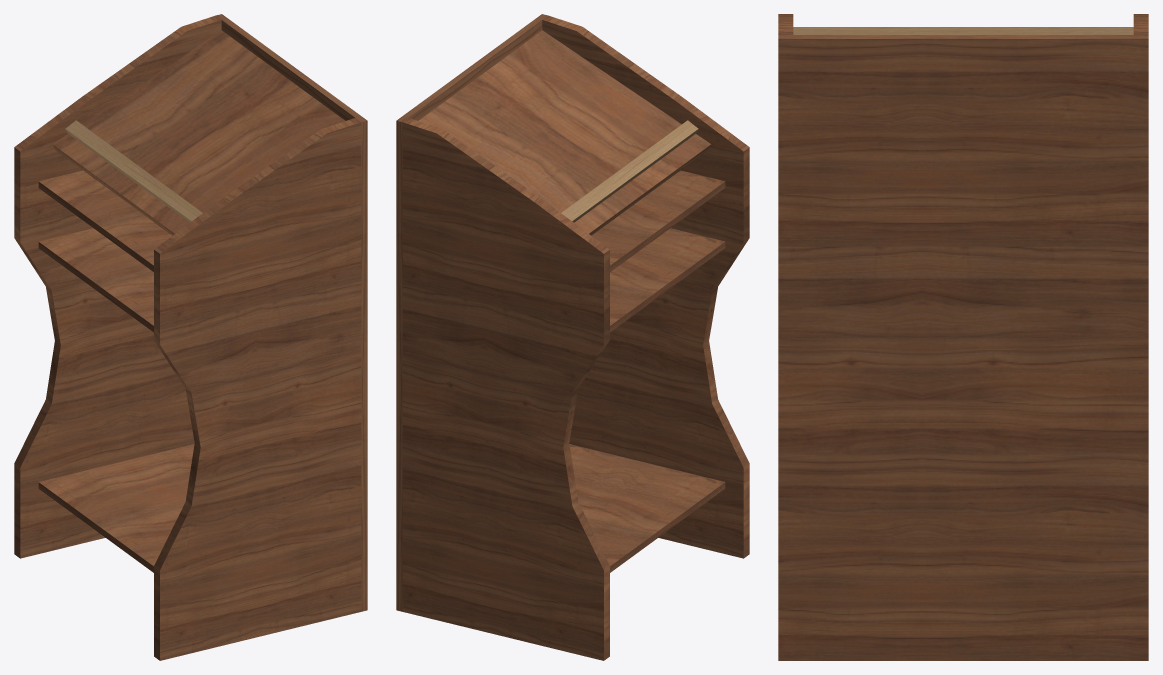
Rendered from lecture table2.FBX.
The picture shows the model from 3 angles, left to right: view 1: azimuth 30°, elevation 25°; view 2: azimuth 150°, elevation 25°; view 3: azimuth 270°, elevation 25°; orthographic projection. The views are drawn at different scales.
Parts seen in each view (by area): view 1: lecture table2; view 2: lecture table2; view 3: lecture table2.
Boxes of the visible parts, x1=… form: lecture table2: x1=14, y1=14, x2=367, y2=660; lecture table2: x1=396, y1=14, x2=749, y2=660; lecture table2: x1=778, y1=14, x2=1148, y2=660.
Size of the model in its own units: 3.99 by 9 by 4.86.
